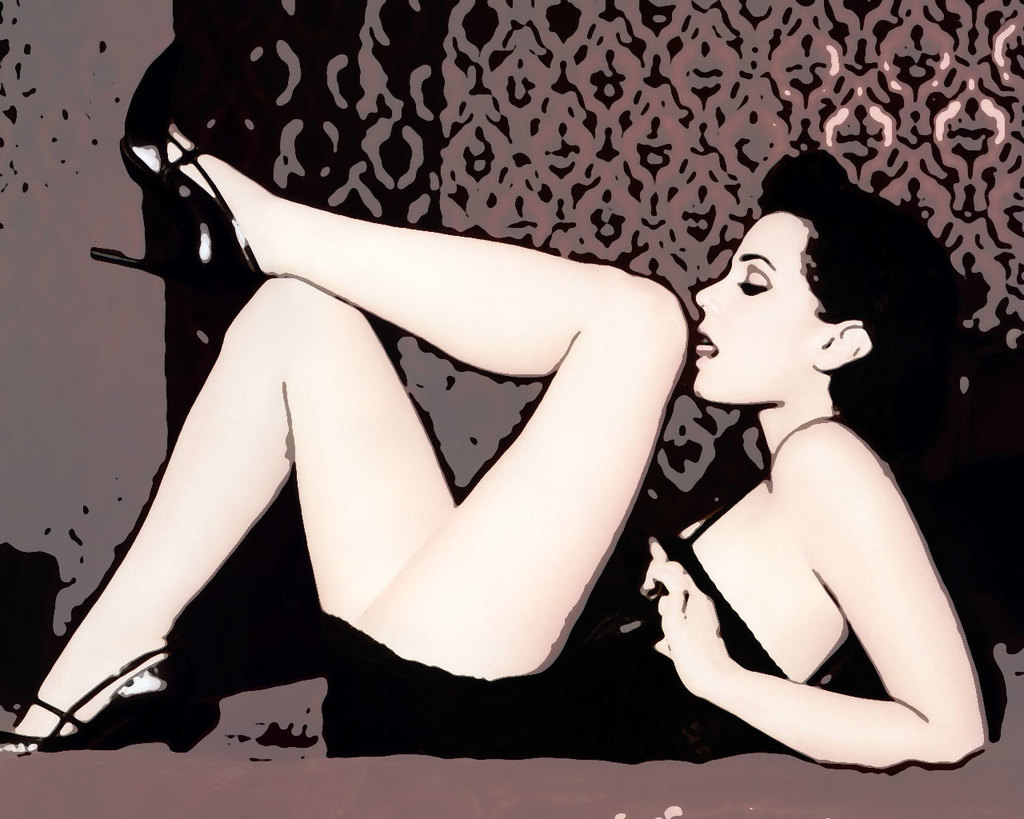Human_hand: (641, 537, 726, 699)
